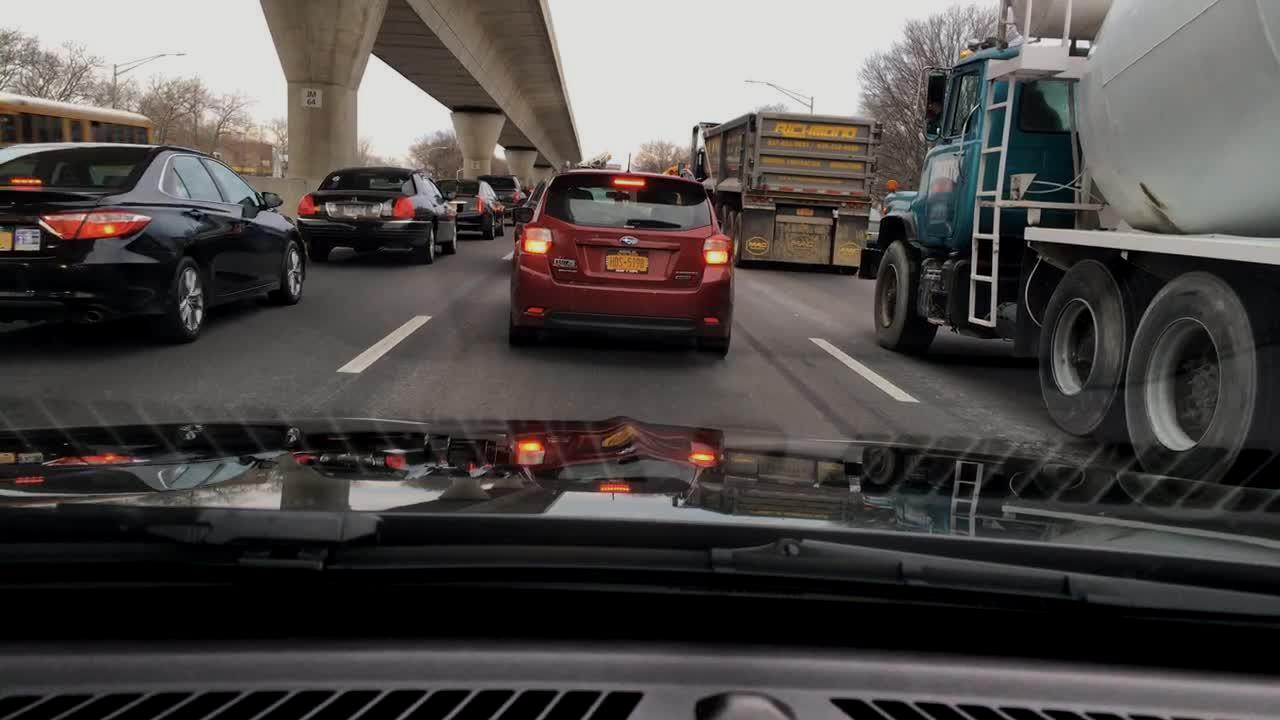subaru: (618, 231, 640, 250)
